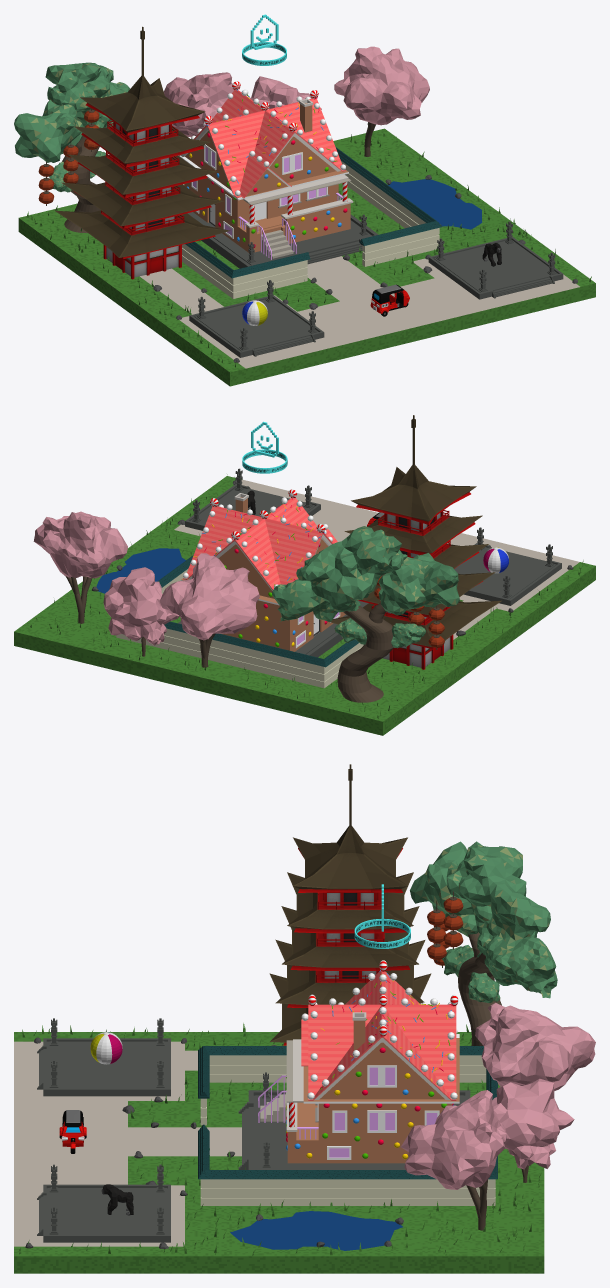
3 views of the same model, one above another, from view 1: azimuth 30°, elevation 25°; view 2: azimuth 150°, elevation 25°; view 3: azimuth 270°, elevation 25° (orthographic). The views are drawn at different scales.
Visible parts, largest first — view 1: Cube.005, Cube.1203, TYPE_PREMIUM, VEHICLES_TUC_TUC, OBJRANDOM_BEACHBALL; view 2: Cube.005, Cube.1203, TYPE_PREMIUM, OBJRANDOM_BEACHBALL; view 3: Cube.005, Cube.1203, TYPE_PREMIUM, VEHICLES_TUC_TUC, OBJRANDOM_BEACHBALL.
Boxes of the visible parts, <box> form: Cube.005: <box>14,26,595,386</box>; Cube.1203: <box>178,81,353,259</box>; TYPE_PREMIUM: <box>242,14,286,65</box>; VEHICLES_TUC_TUC: <box>370,284,409,316</box>; OBJRANDOM_BEACHBALL: <box>242,300,267,325</box>; Cube.005: <box>14,415,595,735</box>; Cube.1203: <box>180,489,345,651</box>; TYPE_PREMIUM: <box>242,421,287,473</box>; OBJRANDOM_BEACHBALL: <box>483,547,508,573</box>; Cube.005: <box>14,764,595,1273</box>; Cube.1203: <box>258,960,459,1163</box>; TYPE_PREMIUM: <box>354,884,410,948</box>; VEHICLES_TUC_TUC: <box>59,1110,86,1153</box>; OBJRANDOM_BEACHBALL: <box>90,1032,122,1064</box>.
Bounding box in the file's own units: 4528 × 2791 × 4389.
49 materials, 7 textured.
